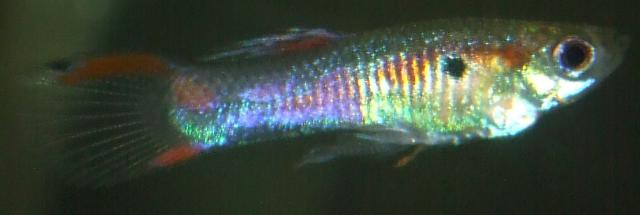Sirip Dada: (399, 37, 521, 120)
Sirip Ekor: (4, 32, 218, 206)
Sirip Punggung: (192, 17, 364, 79)
